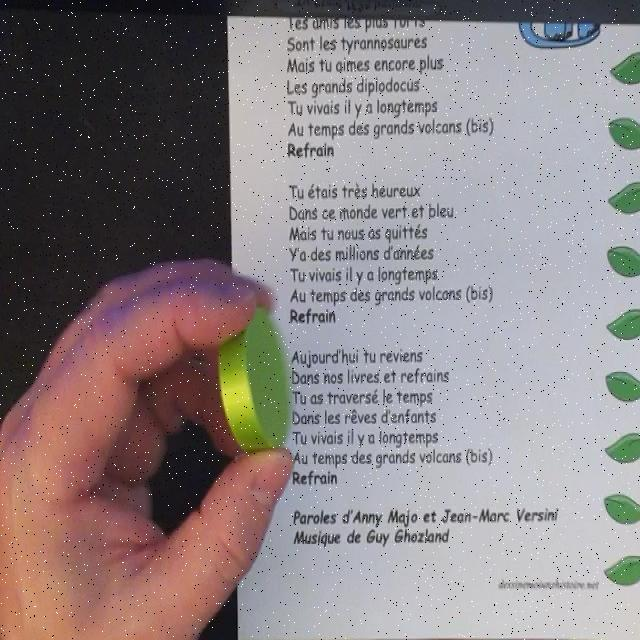round: (217, 304, 293, 459)
